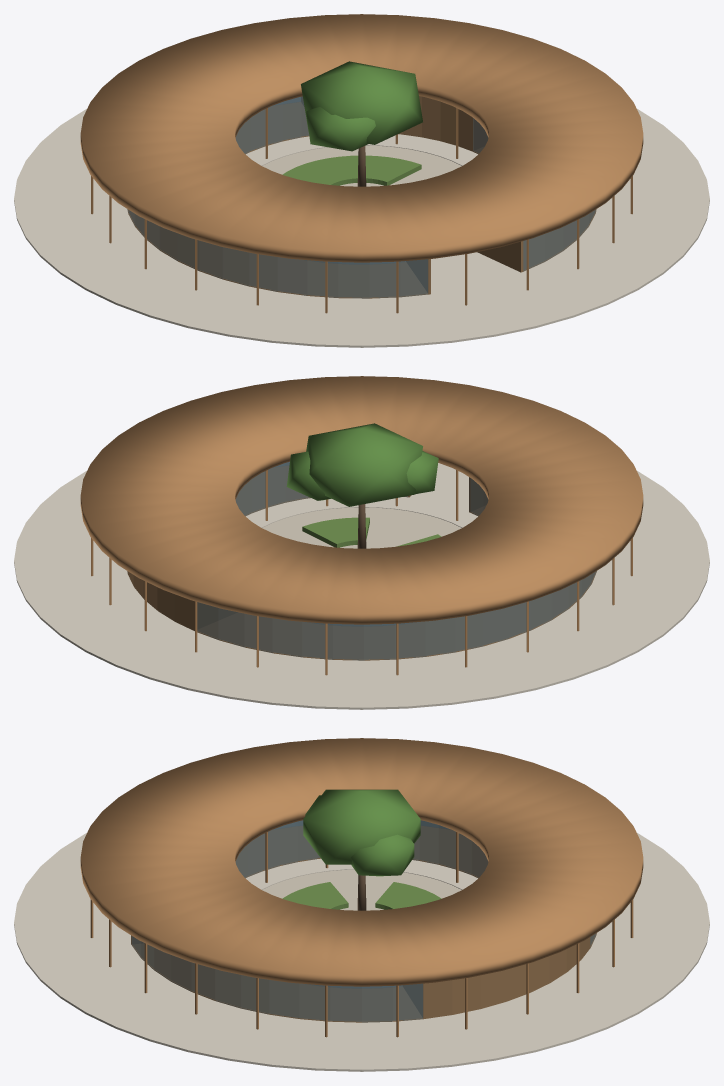
Rendered from rotunda-restaurant.glb.
The picture shows the model from 3 angles, top to bottom: view 1: azimuth 30°, elevation 25°; view 2: azimuth 150°, elevation 25°; view 3: azimuth 270°, elevation 25°; orthographic projection.
Visible parts, largest first — view 1: Rotunda Restaurant | Restaurant roof white, Rotunda Restaurant | Restaurant paving, Rotunda Restaurant | Restaurant timber, Rotunda Restaurant | Restaurant glass, Rotunda Restaurant | Restaurant canopy, Rotunda Restaurant | Restaurant planting, Rotunda Restaurant | Restaurant court paving, Rotunda Restaurant | Restaurant mullion; view 2: Rotunda Restaurant | Restaurant roof white, Rotunda Restaurant | Restaurant paving, Rotunda Restaurant | Restaurant timber, Rotunda Restaurant | Restaurant glass, Rotunda Restaurant | Restaurant canopy, Rotunda Restaurant | Restaurant court paving, Rotunda Restaurant | Restaurant mullion, Rotunda Restaurant | Restaurant planting; view 3: Rotunda Restaurant | Restaurant roof white, Rotunda Restaurant | Restaurant paving, Rotunda Restaurant | Restaurant timber, Rotunda Restaurant | Restaurant glass, Rotunda Restaurant | Restaurant canopy, Rotunda Restaurant | Restaurant court paving, Rotunda Restaurant | Restaurant planting, Rotunda Restaurant | Restaurant mullion.
Part boxes in pixels (x1,y1,x2,y2): Rotunda Restaurant | Restaurant roof white: (80,14,643,262); Rotunda Restaurant | Restaurant paving: (14,109,709,347); Rotunda Restaurant | Restaurant timber: (127,96,596,298); Rotunda Restaurant | Restaurant glass: (127,96,596,298); Rotunda Restaurant | Restaurant canopy: (301,61,422,151); Rotunda Restaurant | Restaurant planting: (282,155,421,185); Rotunda Restaurant | Restaurant court paving: (262,145,461,186); Rotunda Restaurant | Restaurant mullion: (91,108,632,313); Rotunda Restaurant | Restaurant roof white: (80,376,643,624); Rotunda Restaurant | Restaurant paving: (14,463,709,709); Rotunda Restaurant | Restaurant timber: (127,465,596,660); Rotunda Restaurant | Restaurant glass: (197,461,596,660); Rotunda Restaurant | Restaurant canopy: (286,423,438,506); Rotunda Restaurant | Restaurant court paving: (262,507,461,548); Rotunda Restaurant | Restaurant mullion: (91,470,632,675); Rotunda Restaurant | Restaurant planting: (302,517,441,547); Rotunda Restaurant | Restaurant roof white: (80,738,643,986); Rotunda Restaurant | Restaurant paving: (14,833,709,1071); Rotunda Restaurant | Restaurant timber: (131,826,596,1022); Rotunda Restaurant | Restaurant glass: (131,820,596,1022); Rotunda Restaurant | Restaurant canopy: (303,789,420,876); Rotunda Restaurant | Restaurant court paving: (262,869,461,910); Rotunda Restaurant | Restaurant planting: (282,882,441,909); Rotunda Restaurant | Restaurant mullion: (90,832,633,1037).
Size of the model in its own units: 46.52 by 9.9 by 46.52.
